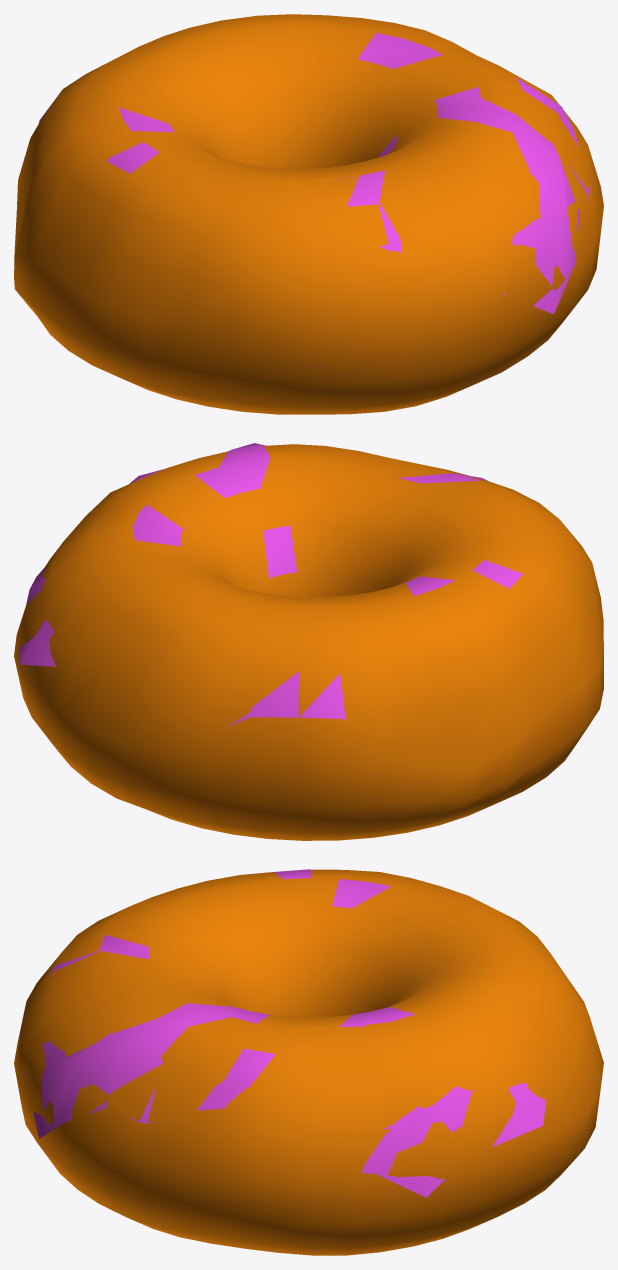
File: donut.glb
3 renders of one model, top to bottom at view 1: azimuth 30°, elevation 25°; view 2: azimuth 150°, elevation 25°; view 3: azimuth 270°, elevation 25°, orthographic. The views are drawn at different scales.
Visible parts, largest first — view 1: Donut, Icing; view 2: Donut, Icing; view 3: Donut, Icing.
Boxes of the visible parts, bbox=[...] form: Donut: bbox=[14, 14, 603, 414]; Icing: bbox=[39, 32, 589, 365]; Donut: bbox=[14, 444, 603, 840]; Icing: bbox=[19, 443, 523, 725]; Donut: bbox=[14, 869, 603, 1255]; Icing: bbox=[24, 869, 545, 1197].
Size of the model in its own units: 0.0967 by 0.0408 by 0.0992.
